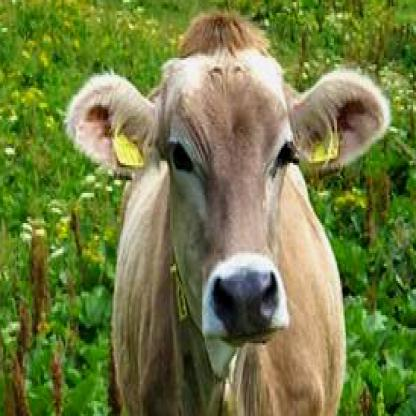cow: (64, 13, 390, 414)
